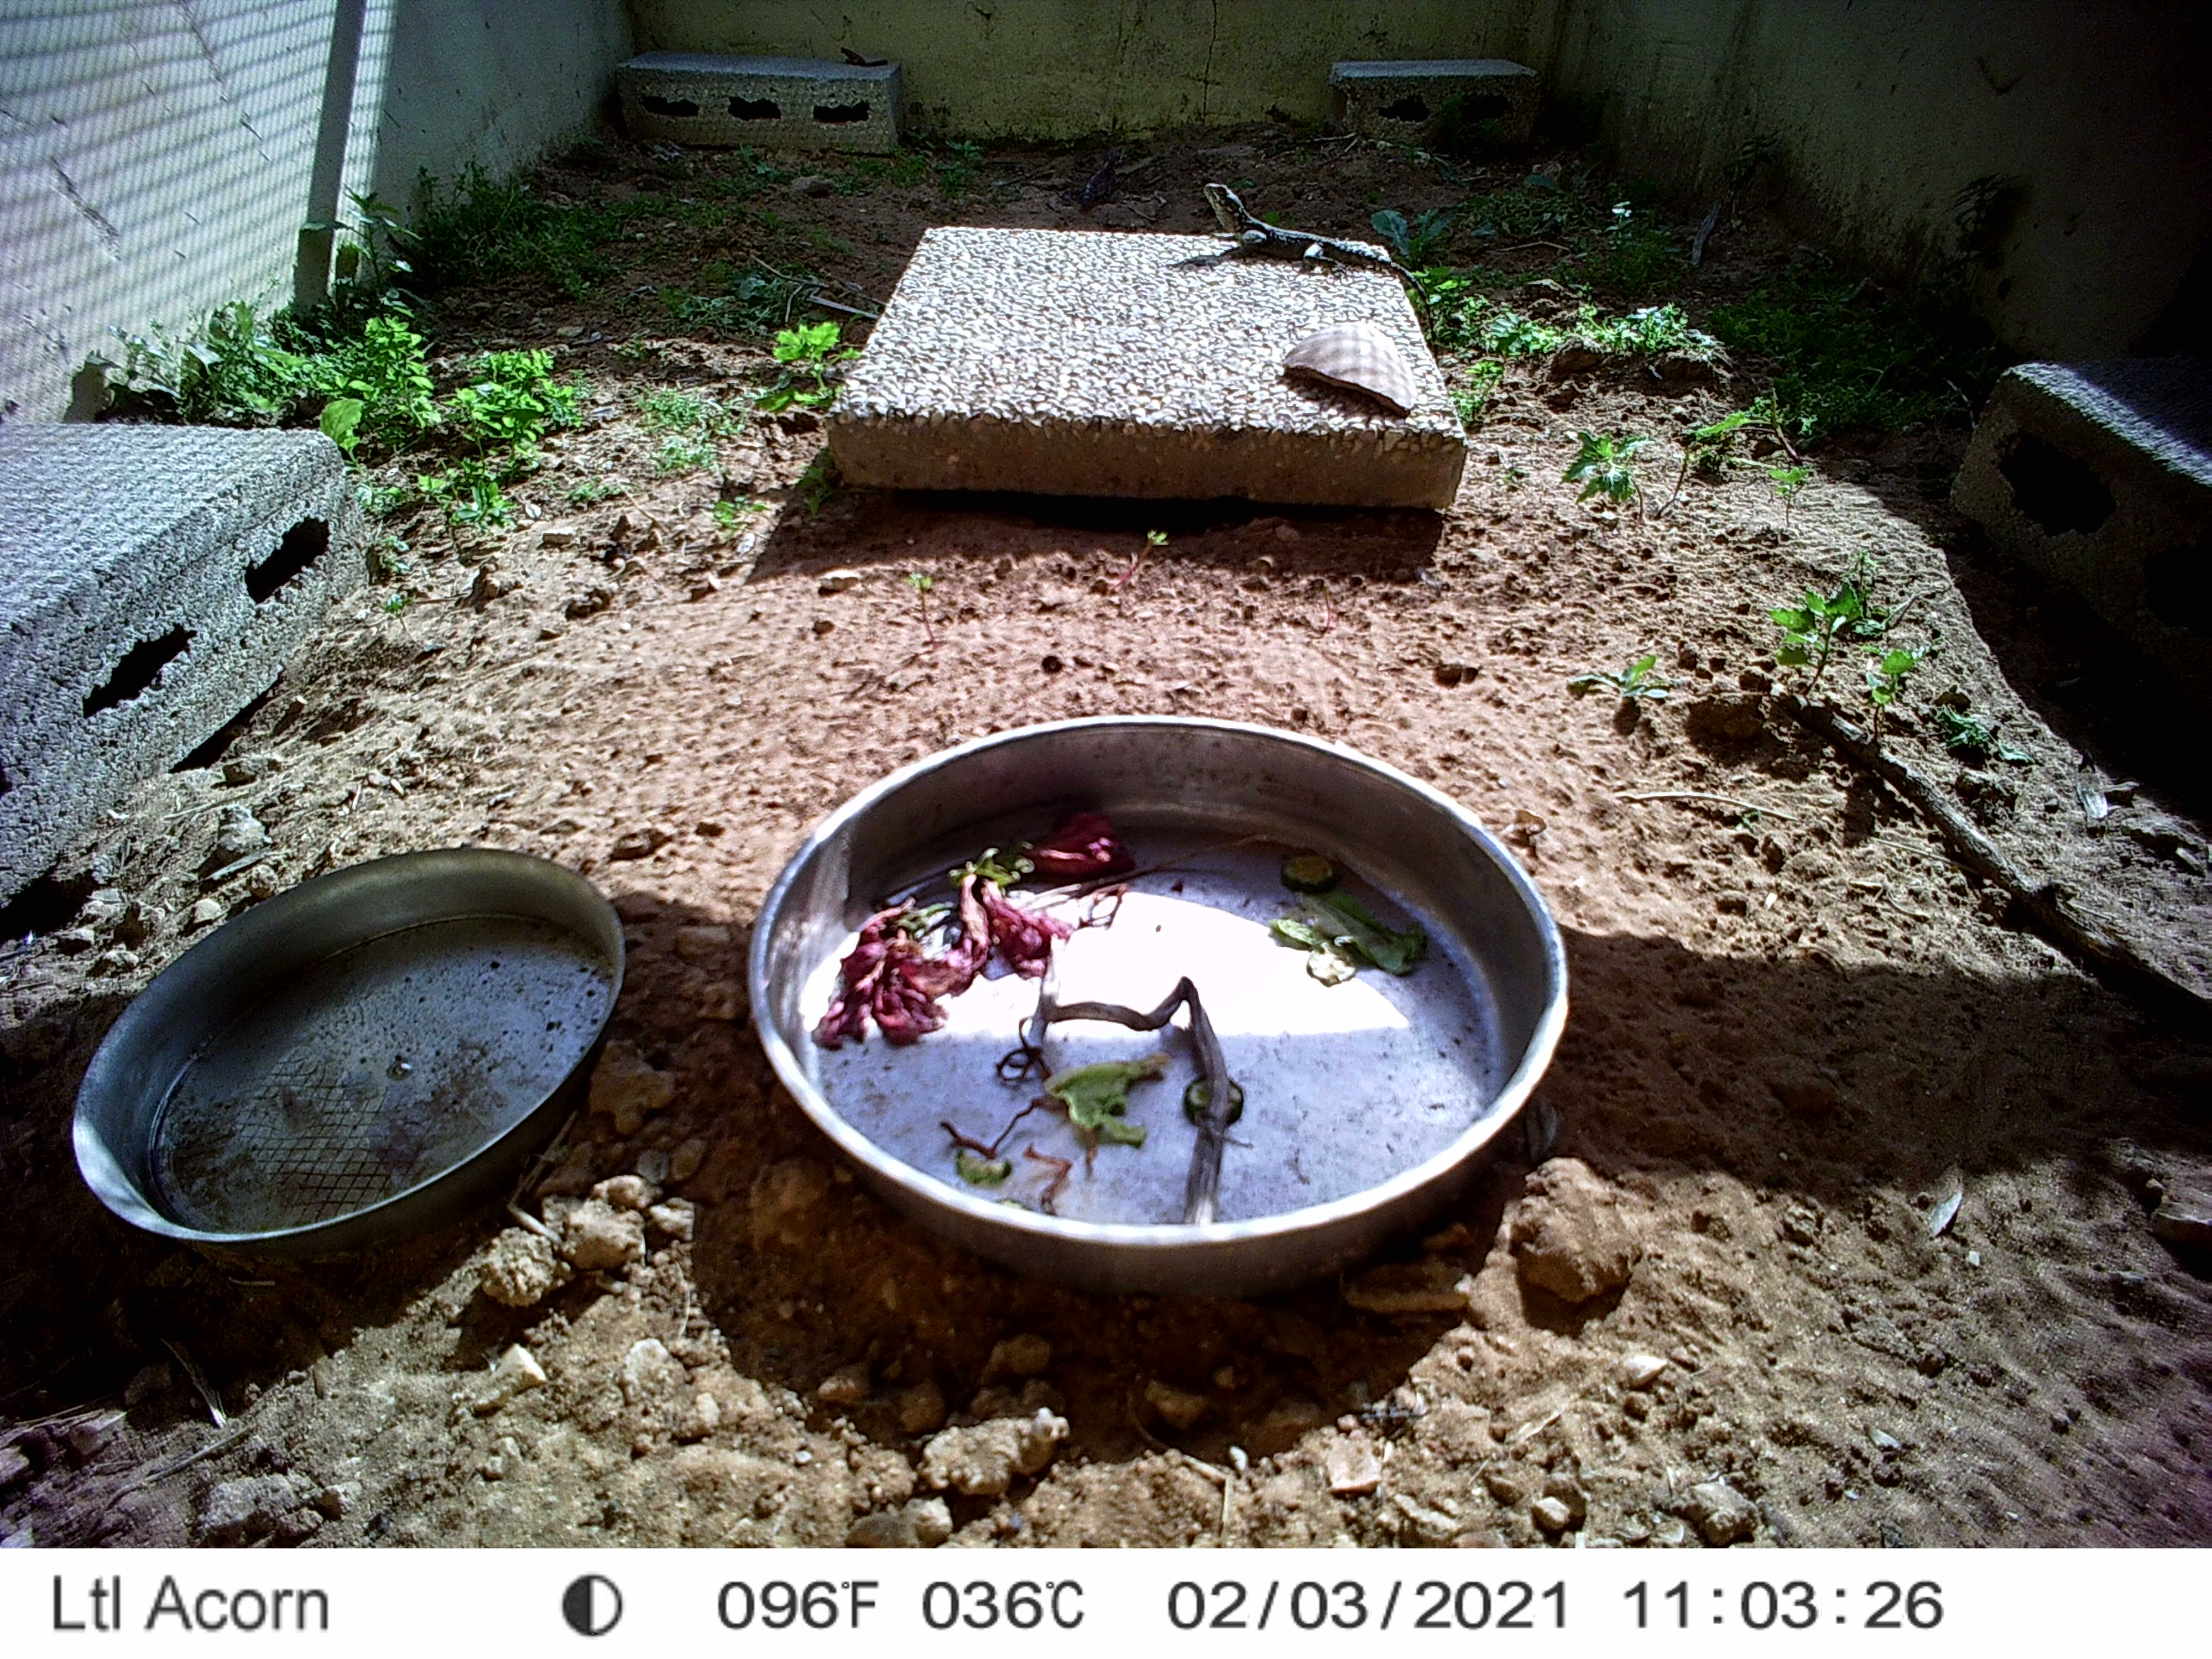lizard: (1200, 179, 1454, 343), (1054, 145, 1127, 214)
